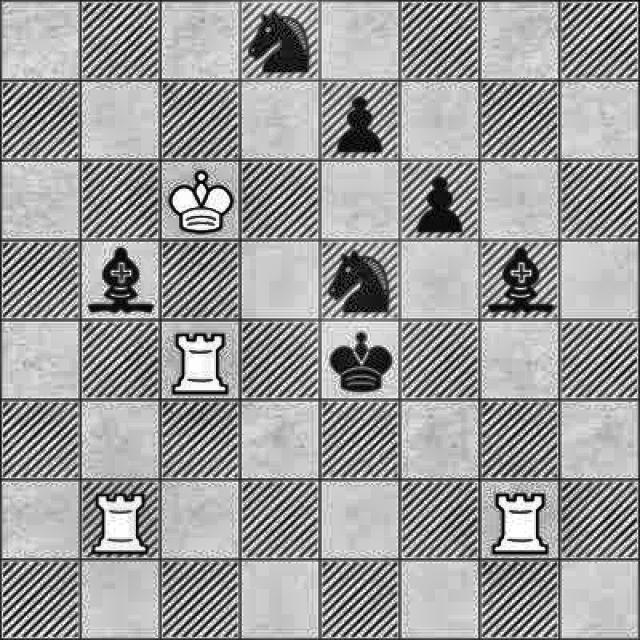Black Knight: (243, 0, 316, 82), (327, 242, 398, 321)
black bishop: (79, 243, 160, 315), (484, 240, 557, 318)
black king: (328, 329, 396, 396)
black pawn: (325, 88, 391, 158), (410, 162, 470, 235)
white king: (165, 170, 237, 237)
white rook: (159, 326, 234, 398), (485, 481, 551, 555), (86, 483, 150, 558)
